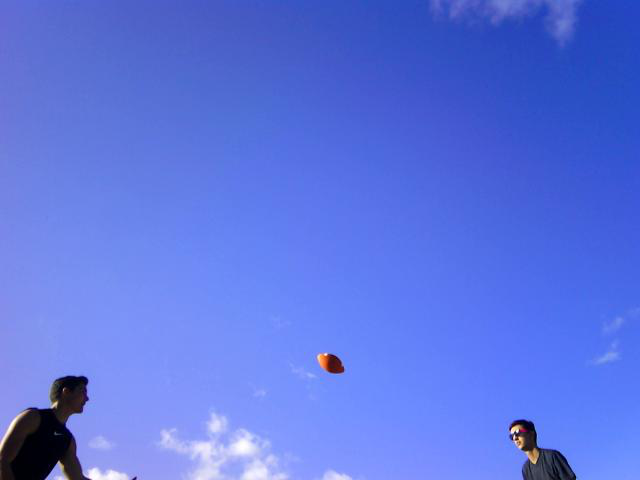football: (312, 349, 348, 377)
